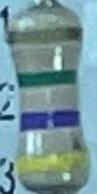Blue: (20, 107, 84, 130)
Green: (18, 66, 78, 88)
Side-Silver: (10, 26, 82, 45)
Yellow: (19, 147, 89, 178)
